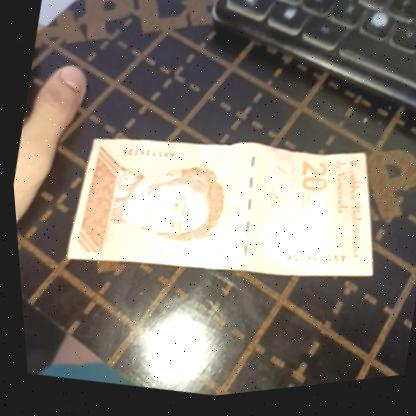twenty-front-vef: (54, 95, 396, 328)
